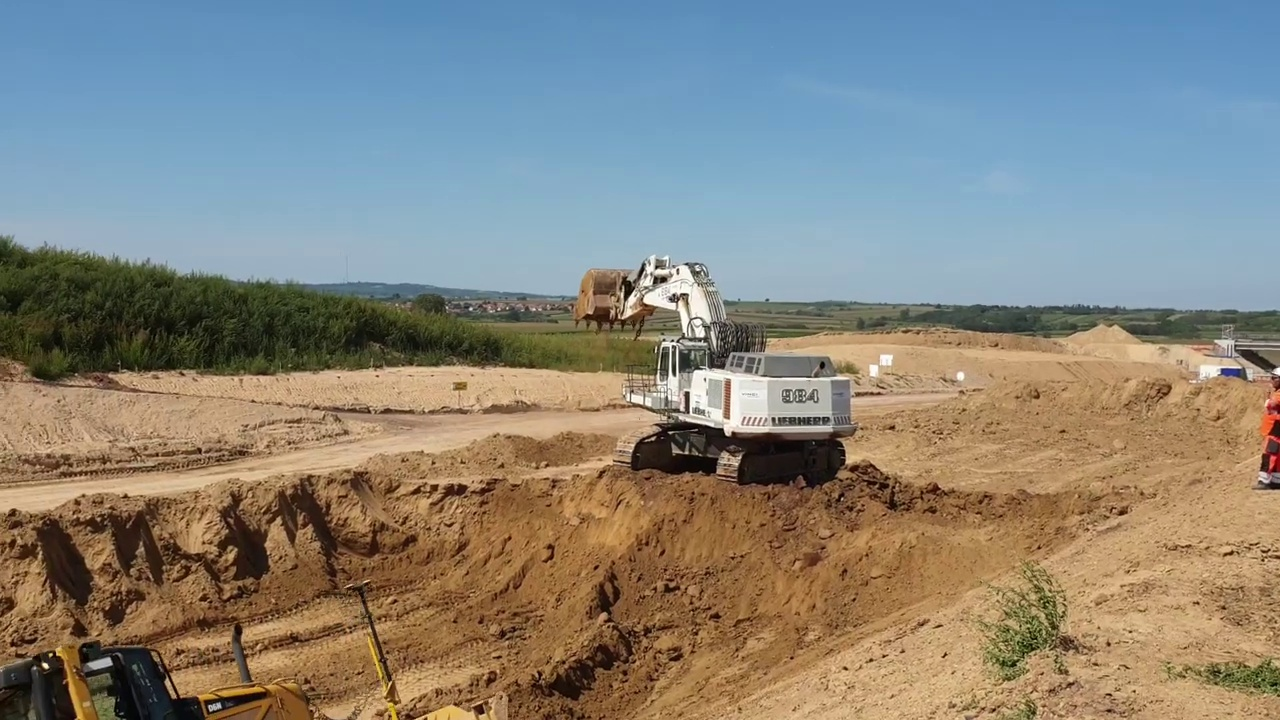bulldozer: (2, 575, 485, 720)
excavator: (568, 254, 861, 492)
worker: (1256, 362, 1280, 494)
